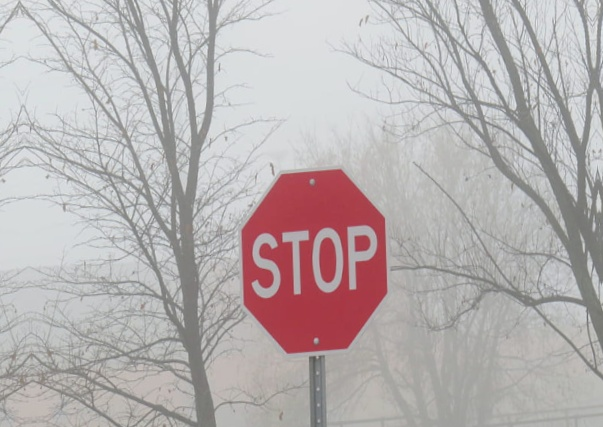Stop: (227, 165, 389, 356)
